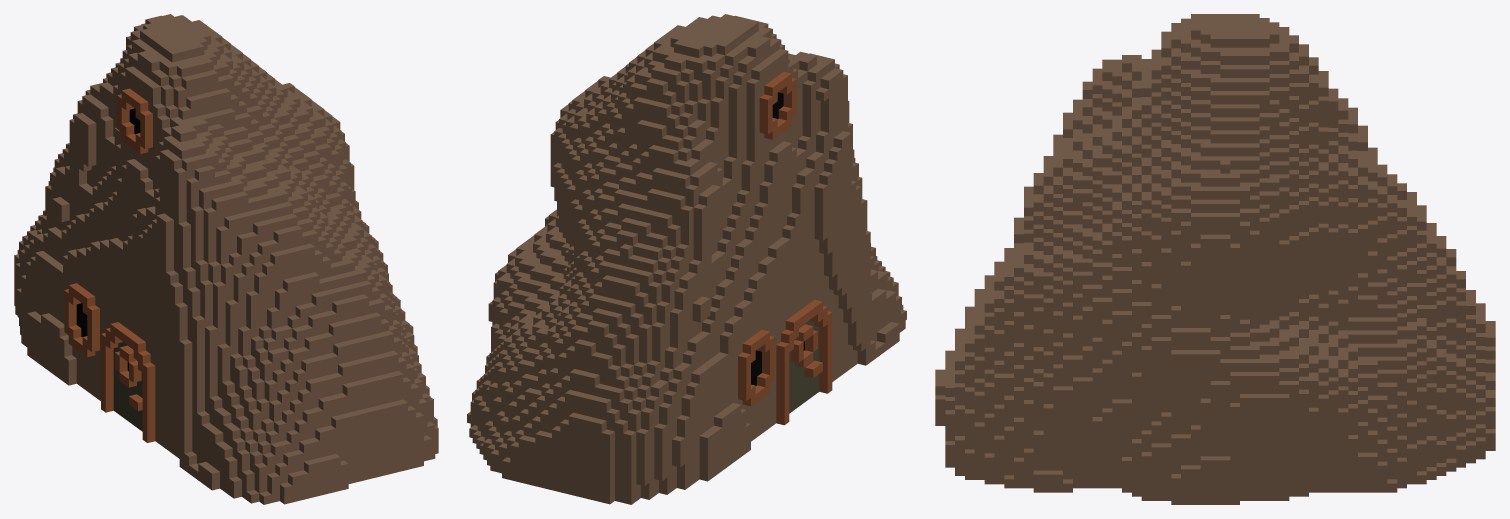
Rendered from StoneHouse2.fbx.
The picture shows the model from 3 angles, left to right: view 1: azimuth 30°, elevation 25°; view 2: azimuth 150°, elevation 25°; view 3: azimuth 270°, elevation 25°; orthographic projection. The views are drawn at different scales.
Parts seen in each view (by area): view 1: Cube.078; view 2: Cube.078; view 3: Cube.078.
Boxes of the visible parts, x1=… form: Cube.078: x1=14, y1=14, x2=438, y2=504; Cube.078: x1=467, y1=14, x2=906, y2=504; Cube.078: x1=935, y1=14, x2=1495, y2=504.
Size of the model in its own units: 349 by 469 by 622.
